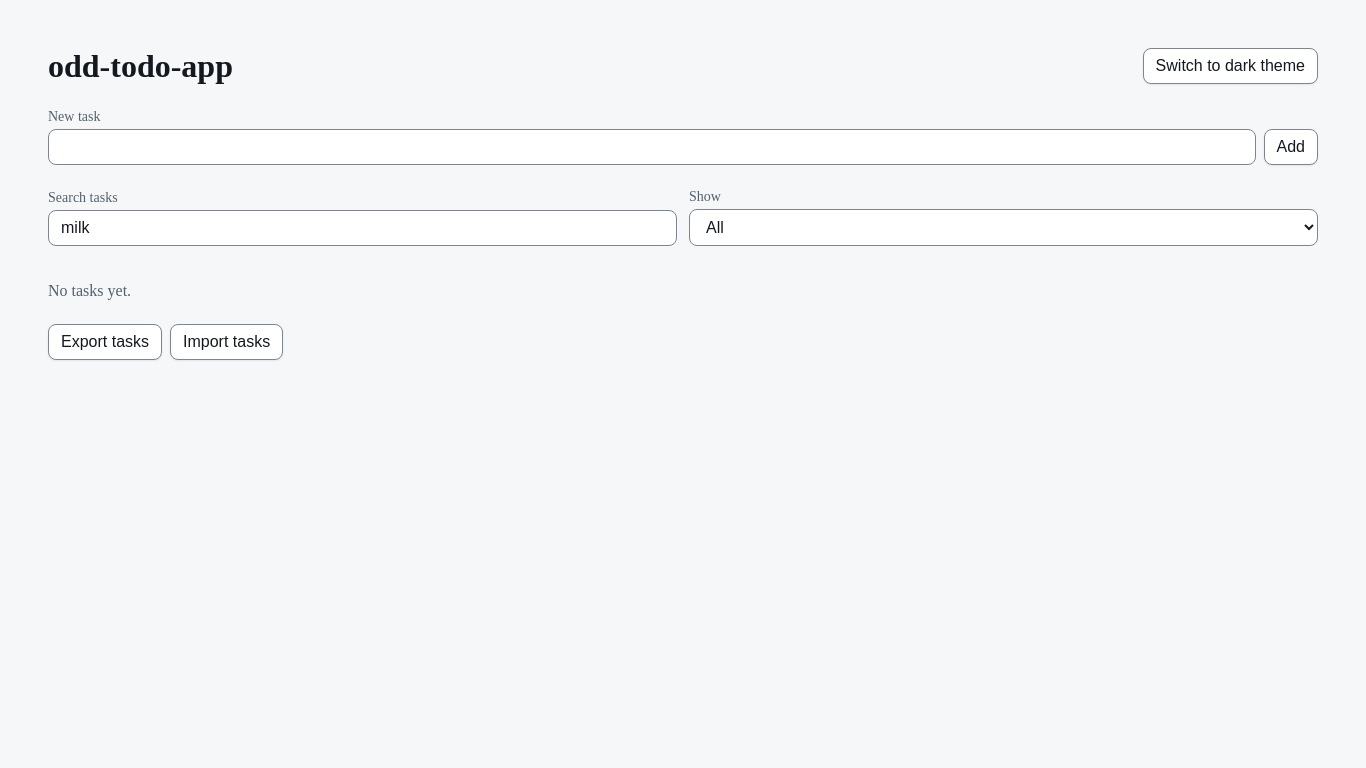
integration: filter + undo in App (filter-search S5, undo-delete S10-seam) › undo restores into the full list; an active filter keeps it hidden (req 10)
This screenshot has width=1366, height=768.
Later steps or results of the test are not shown.
Type "Buy milk" into the field labelled "New task" at (652, 147), box [48,129,1256,165]
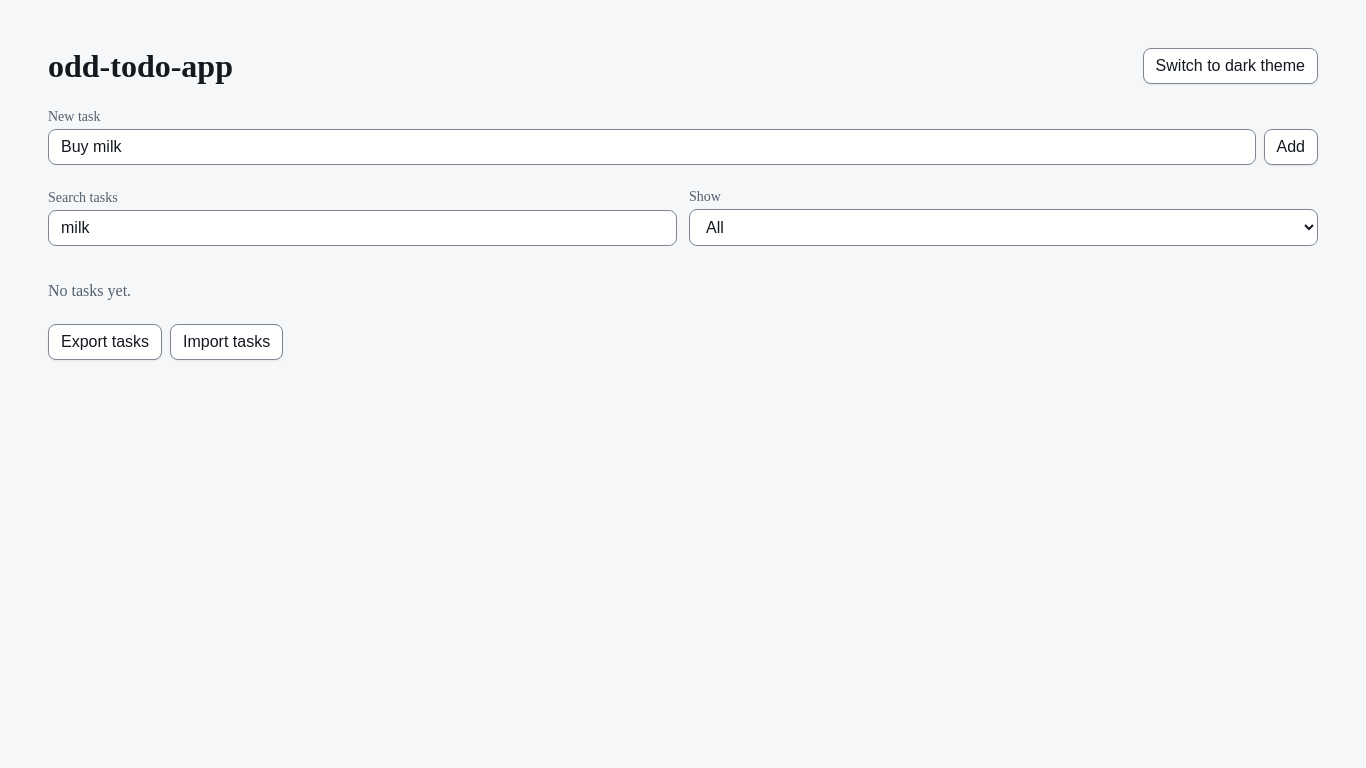
Click the button "Add" at (1291, 147), box [1264,129,1318,165]
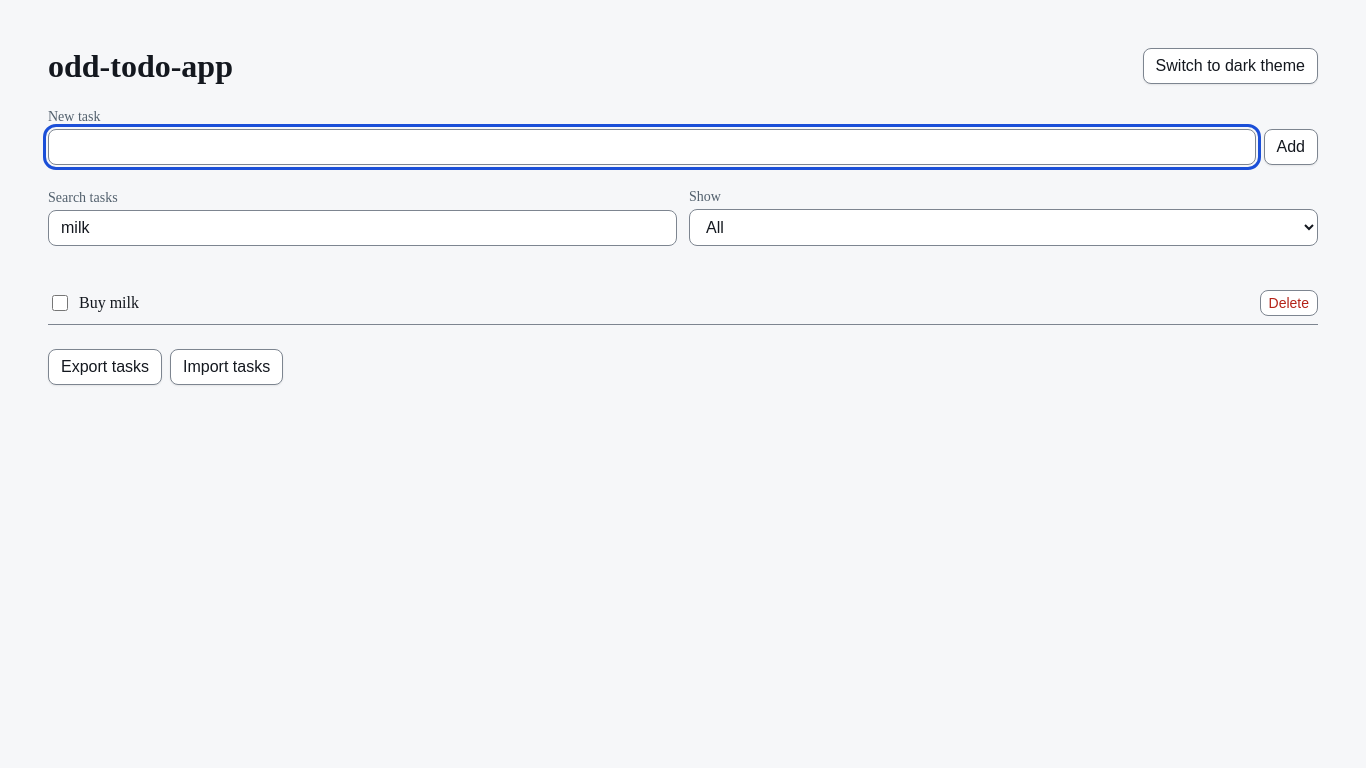
Type "Pay rent" into the field labelled "New task" at (652, 147), box [48,129,1256,165]
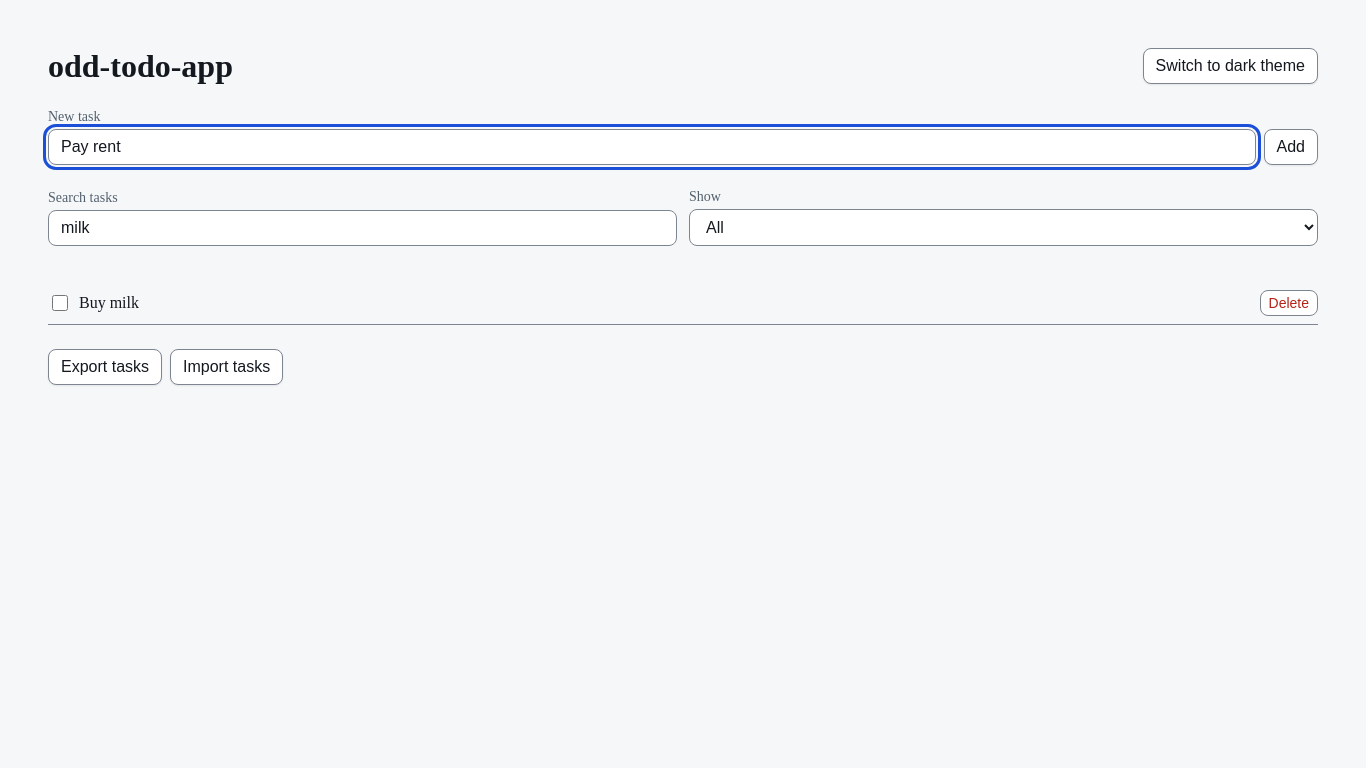
Click the button "Add" at (1291, 147), box [1264,129,1318,165]
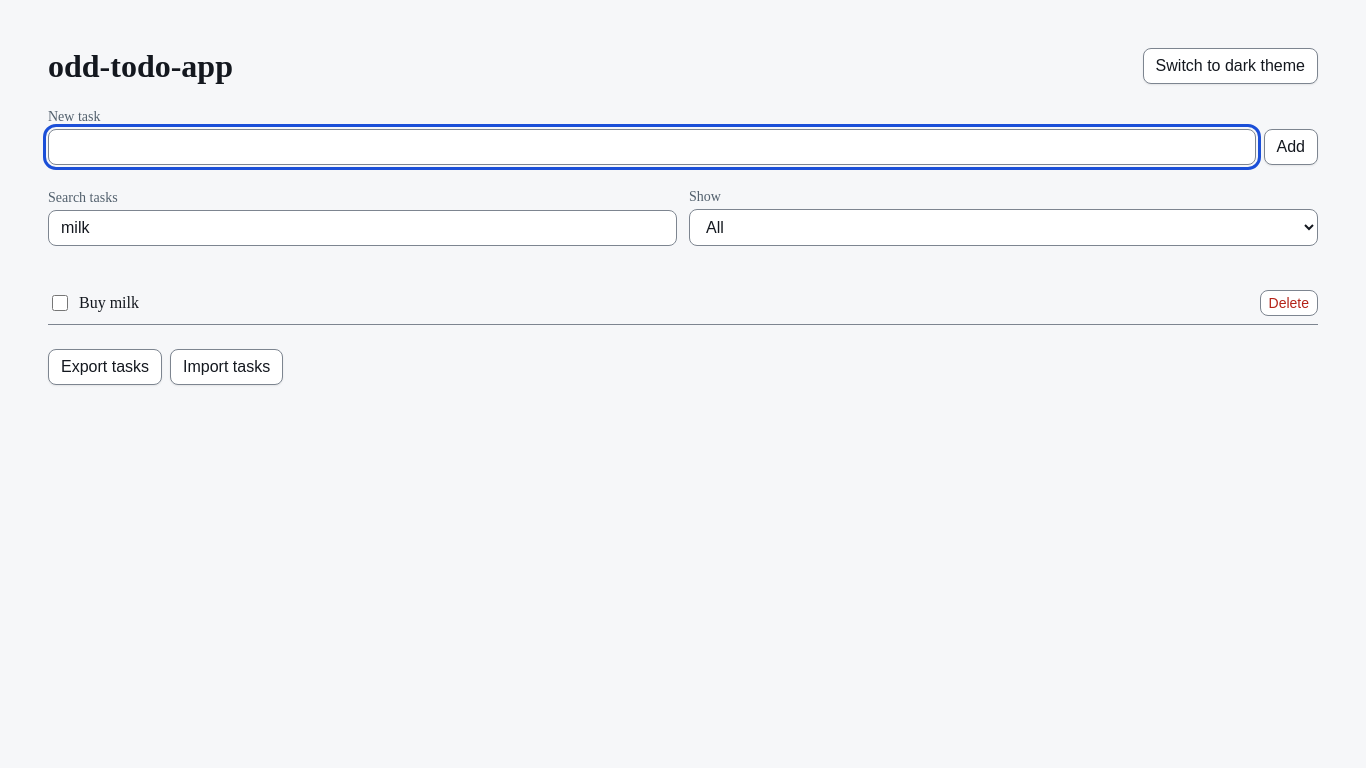
Click the button with aria-label "Delete Buy milk" at (1289, 303), box [1260,290,1318,316]
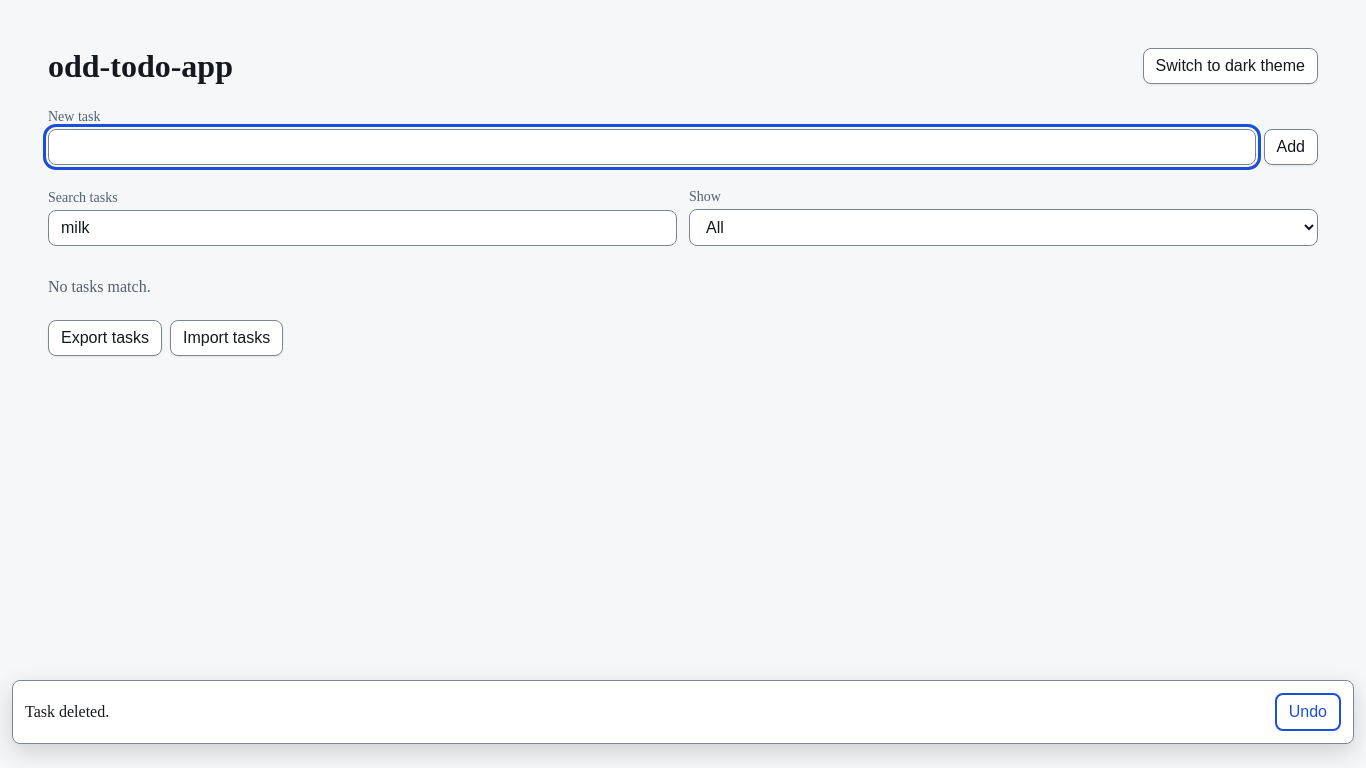
Result: the text "Task deleted." is shown at [25,703,109,721]
